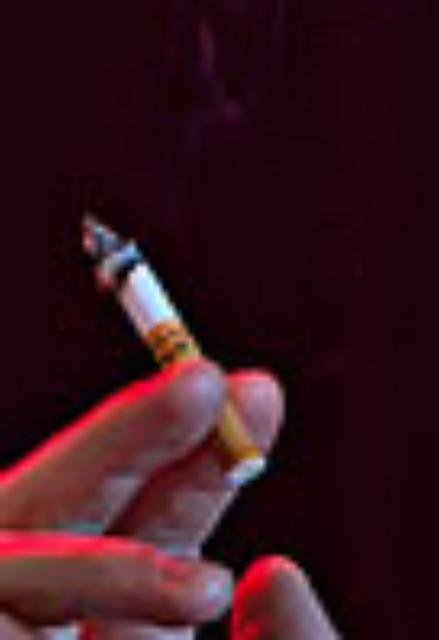Cigarette: (66, 200, 258, 472)
